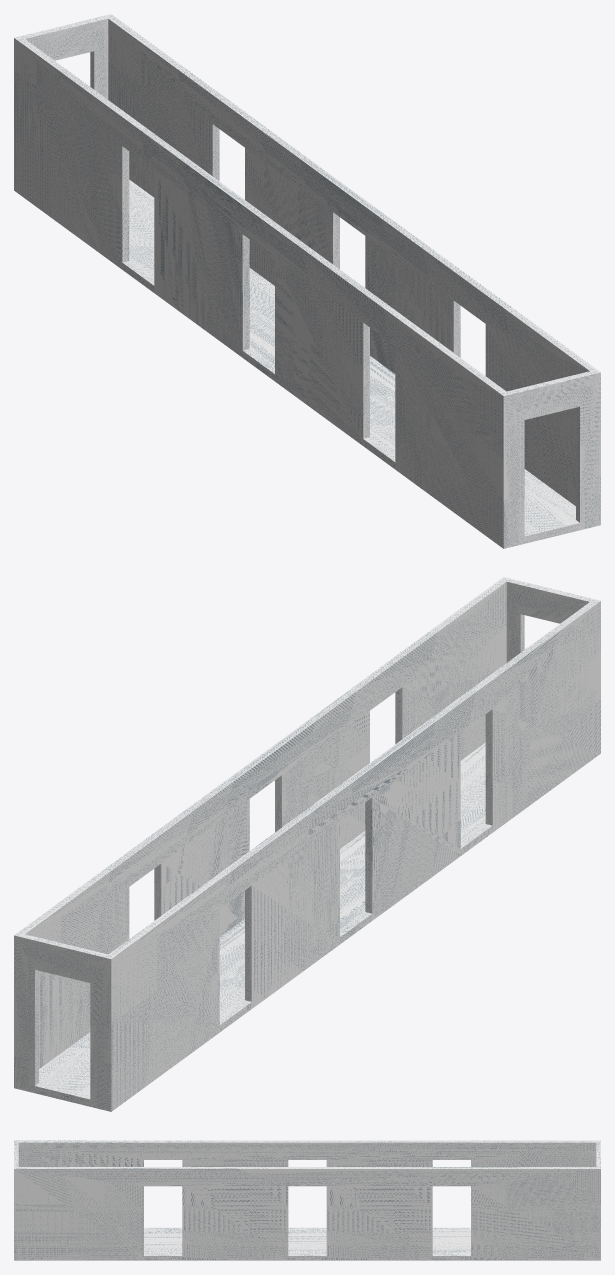
Rendered from LNG_HAL.fbx.
3 renders of one model, top to bottom at view 1: azimuth 30°, elevation 25°; view 2: azimuth 150°, elevation 25°; view 3: azimuth 270°, elevation 25°, orthographic. The views are drawn at different scales.
Parts seen in each view (by area): view 1: Model; view 2: Model; view 3: Model.
Boxes of the visible parts, box(x1,y1,x2,y2) form: Model: box(14, 14, 600, 548); Model: box(14, 577, 600, 1111); Model: box(14, 1140, 600, 1260).
Bounding box in the file's own units: 7 × 10.5 × 61.
